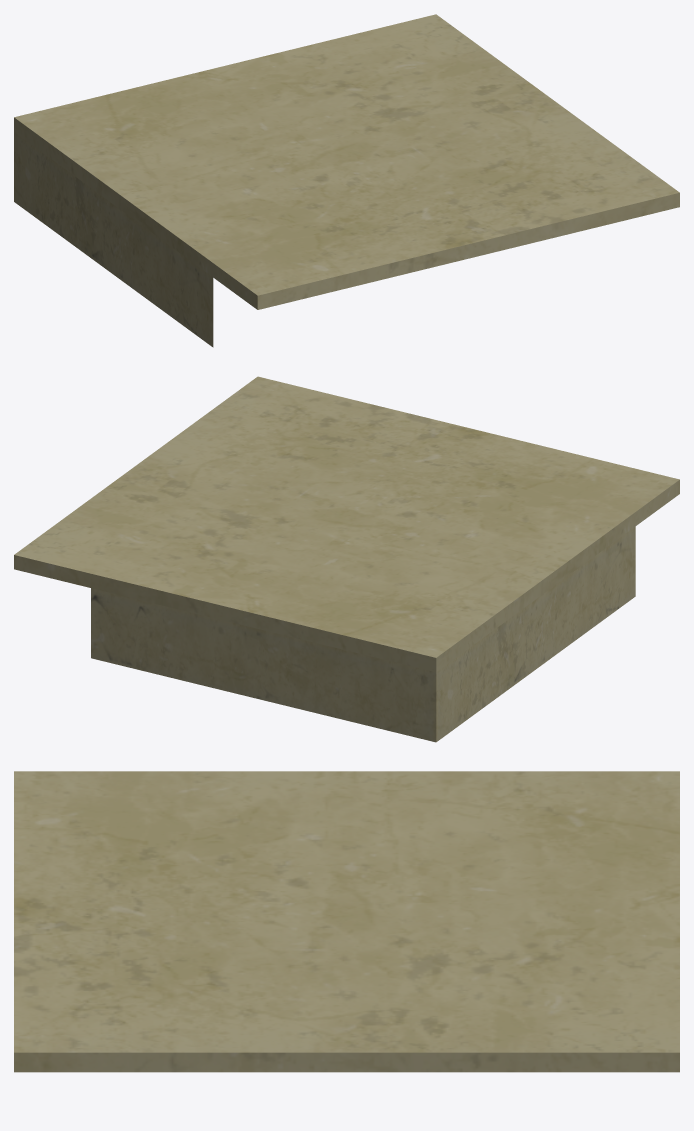
File: Brick_CornerColumn_CapShort.gltf
3 renders of one model, top to bottom at view 1: azimuth 30°, elevation 25°; view 2: azimuth 150°, elevation 25°; view 3: azimuth 270°, elevation 25°, orthographic. The views are drawn at different scales.
Parts seen in each view (by area): view 1: Brick_CornerColumn_CapShort; view 2: Brick_CornerColumn_CapShort; view 3: Brick_CornerColumn_CapShort.
Boxes of the visible parts, box(x1,y1,x2,y2) form: Brick_CornerColumn_CapShort: box(14, 14, 679, 347); Brick_CornerColumn_CapShort: box(14, 376, 679, 742); Brick_CornerColumn_CapShort: box(14, 771, 679, 1072).
Size of the model in its own units: 1.26 by 0.2411 by 1.26.
Materials: 1 (1 with a texture image).
